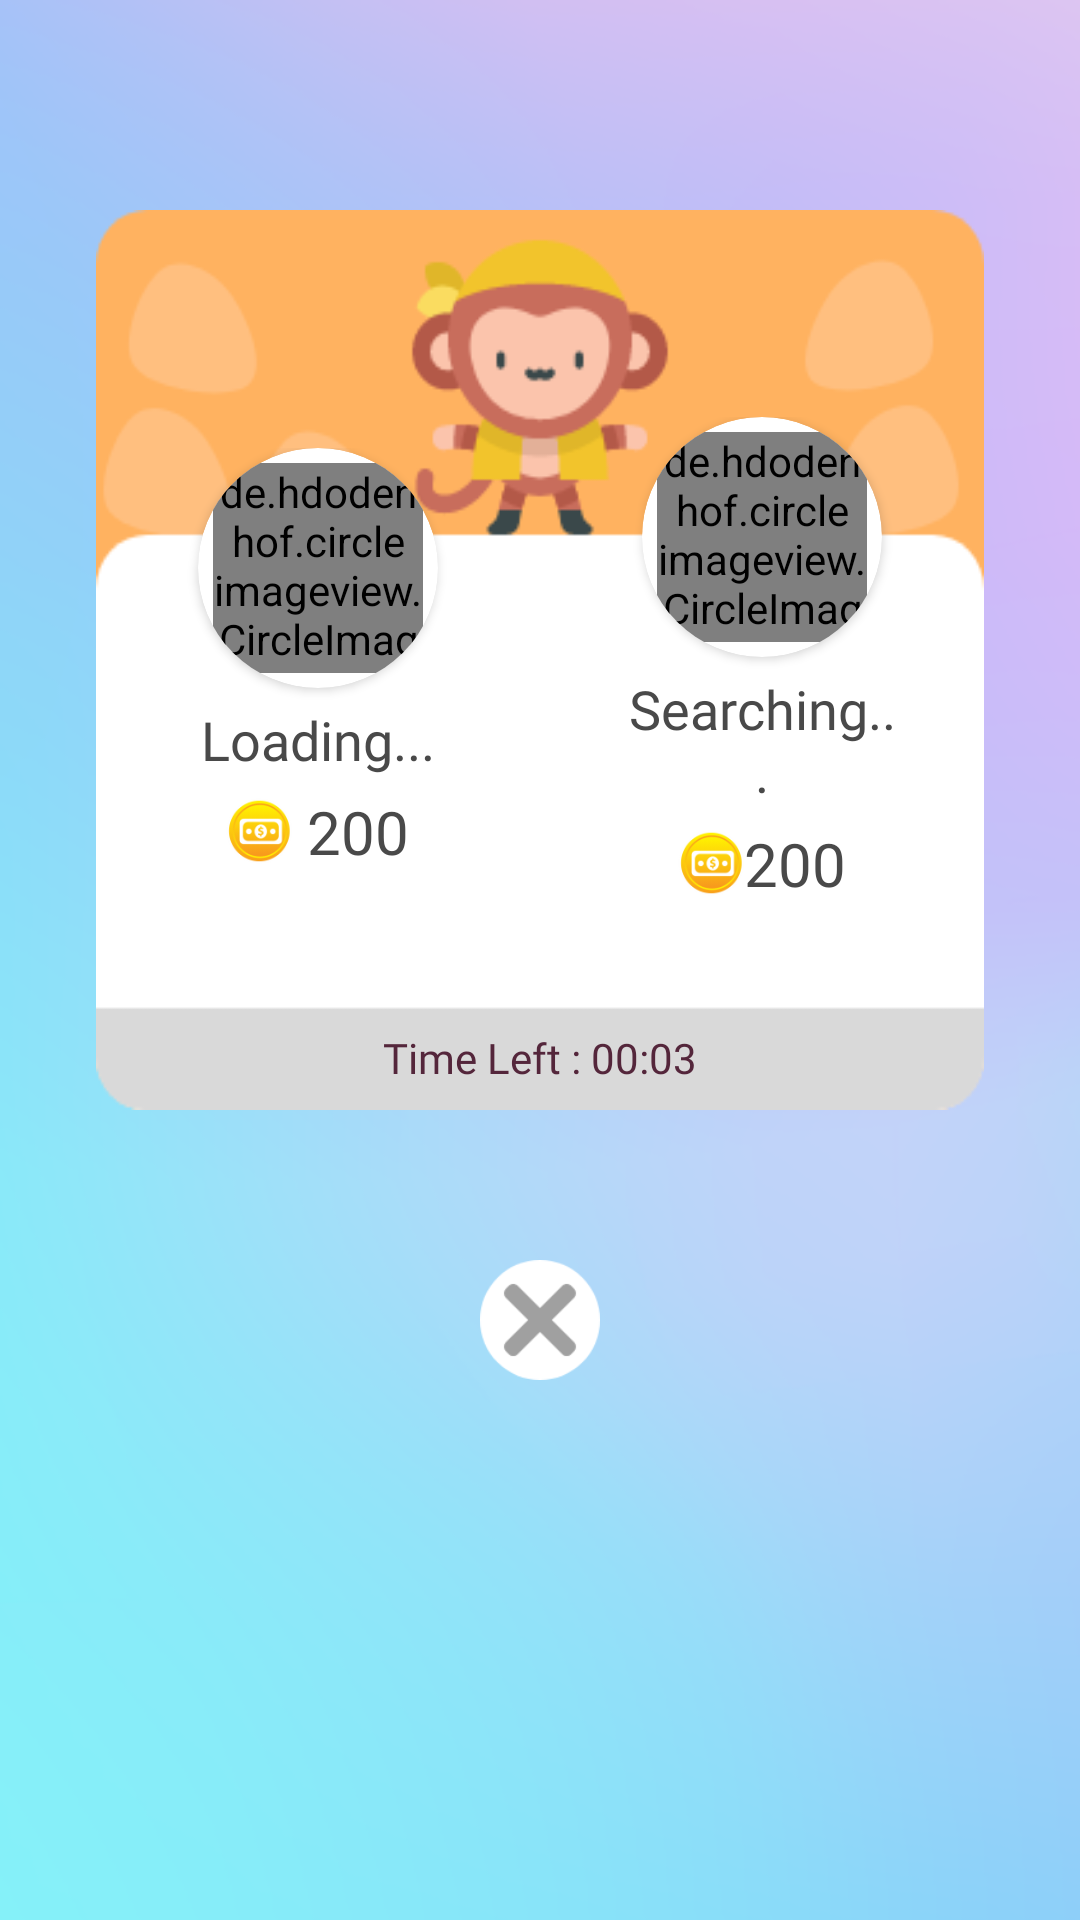

Icons on this 1080px x 1920px Android screen, each with its box as Rect(x1, y1, x2, y2):
close: Rect(480, 1260, 600, 1380)
coin: Rect(229, 800, 290, 862), Rect(681, 832, 742, 894)
